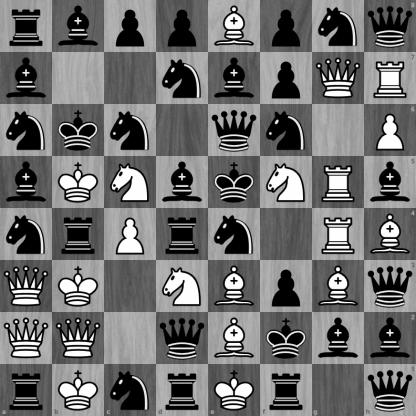B: (364, 209, 416, 260), (209, 1, 260, 52), (209, 261, 260, 312), (209, 313, 260, 364), (313, 261, 364, 312)
K: (52, 364, 104, 416), (209, 364, 260, 416), (53, 157, 104, 208), (53, 261, 104, 312)
N: (105, 157, 156, 208), (157, 261, 208, 312), (261, 157, 312, 208)
P: (364, 104, 416, 156), (105, 209, 156, 260)
Q: (1, 261, 52, 312), (1, 313, 52, 364), (53, 313, 104, 364), (313, 53, 364, 104)
R: (364, 52, 416, 104), (313, 157, 364, 208), (313, 209, 364, 260)
b: (364, 156, 416, 209), (364, 312, 416, 364), (1, 53, 52, 104), (1, 157, 52, 208), (53, 1, 104, 52), (157, 157, 208, 208), (209, 53, 260, 104), (313, 313, 364, 364)
board: (0, 0, 415, 415)
k: (53, 105, 104, 156), (209, 157, 260, 208), (261, 313, 312, 364)
n: (104, 364, 156, 416), (1, 105, 52, 156), (1, 209, 52, 260), (105, 105, 156, 156), (157, 53, 208, 104), (209, 209, 260, 260), (261, 105, 312, 156), (313, 1, 364, 52)
p: (105, 1, 156, 52), (157, 1, 208, 52), (261, 1, 312, 52), (261, 53, 312, 104), (261, 261, 312, 312)
q: (364, 0, 416, 52), (364, 260, 416, 312), (364, 364, 416, 416), (157, 313, 208, 364), (209, 105, 260, 156)
r: (156, 364, 209, 416), (0, 364, 52, 416), (260, 364, 312, 416), (1, 1, 52, 52), (53, 209, 104, 260), (157, 209, 208, 260)
